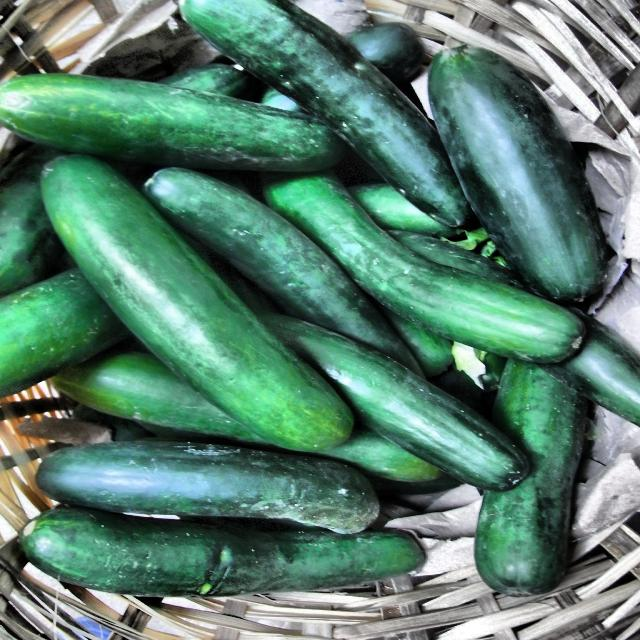cucumber: (44, 41, 582, 601)
